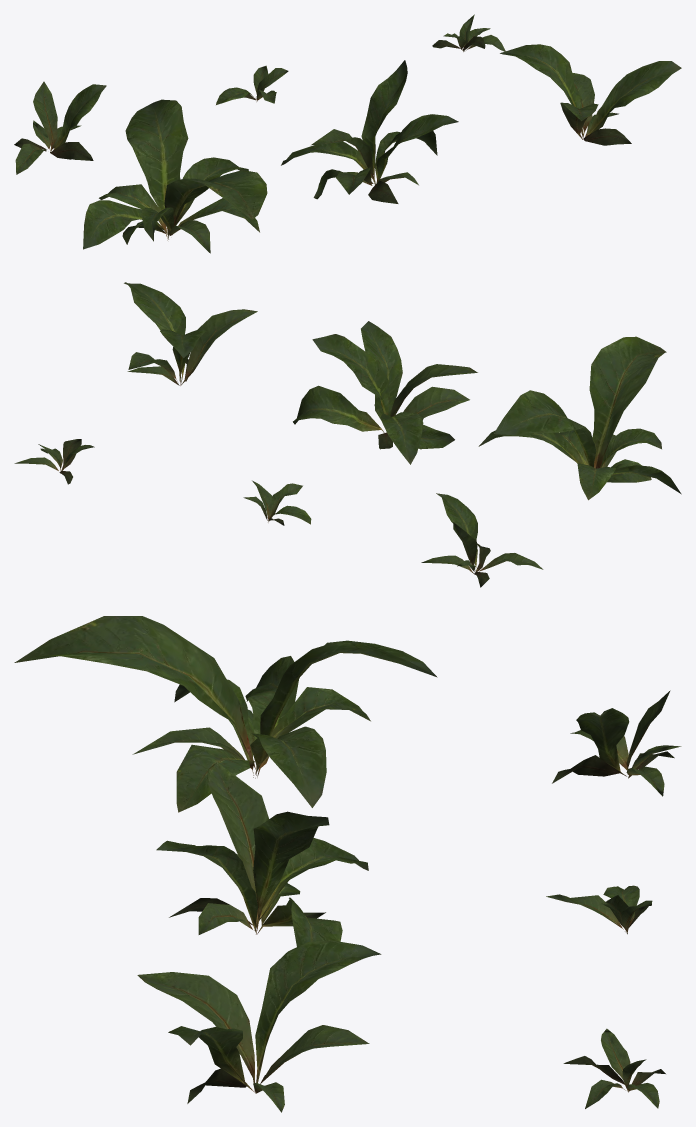
The model's file is anthurium.glb.
3 views of the same model, one above another, from view 1: azimuth 30°, elevation 25°; view 2: azimuth 150°, elevation 25°; view 3: azimuth 270°, elevation 25° (orthographic). The views are drawn at different scales.
Parts seen in each view (by area): view 1: anthurium_botany_01_a, anthurium_botany_01_b, anthurium_botany_01_c, anthurium_botany_04_d, anthurium_botany_05_e, anthurium_botany_06_f; view 2: anthurium_botany_01_a, anthurium_botany_01_b, anthurium_botany_01_c, anthurium_botany_04_d, anthurium_botany_05_e, anthurium_botany_06_f; view 3: anthurium_botany_01_a, anthurium_botany_01_b, anthurium_botany_01_c, anthurium_botany_04_d, anthurium_botany_06_f, anthurium_botany_05_e.
Boxes of the visible parts, x1,y1,x2,y2 form: anthurium_botany_01_a: (83, 99, 267, 253); anthurium_botany_01_b: (281, 60, 458, 203); anthurium_botany_01_c: (500, 44, 681, 145); anthurium_botany_04_d: (14, 81, 106, 174); anthurium_botany_05_e: (216, 65, 288, 104); anthurium_botany_06_f: (432, 14, 505, 51); anthurium_botany_01_a: (478, 336, 681, 500); anthurium_botany_01_b: (293, 321, 477, 464); anthurium_botany_01_c: (124, 282, 257, 385); anthurium_botany_04_d: (421, 493, 543, 587); anthurium_botany_05_e: (243, 480, 311, 525); anthurium_botany_06_f: (14, 439, 94, 484); anthurium_botany_01_a: (14, 616, 437, 812); anthurium_botany_01_b: (156, 762, 368, 946); anthurium_botany_01_c: (137, 940, 381, 1112); anthurium_botany_04_d: (552, 690, 681, 796); anthurium_botany_06_f: (563, 1028, 665, 1108); anthurium_botany_05_e: (546, 885, 652, 934).
Size of the model in its own units: 2.8 by 0.496 by 1.79.
Materials: 1 (1 with a texture image).
